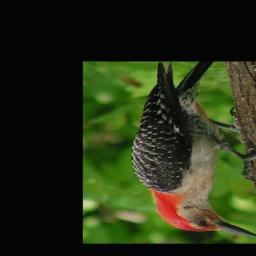Woodpecker: (130, 61, 256, 237)
